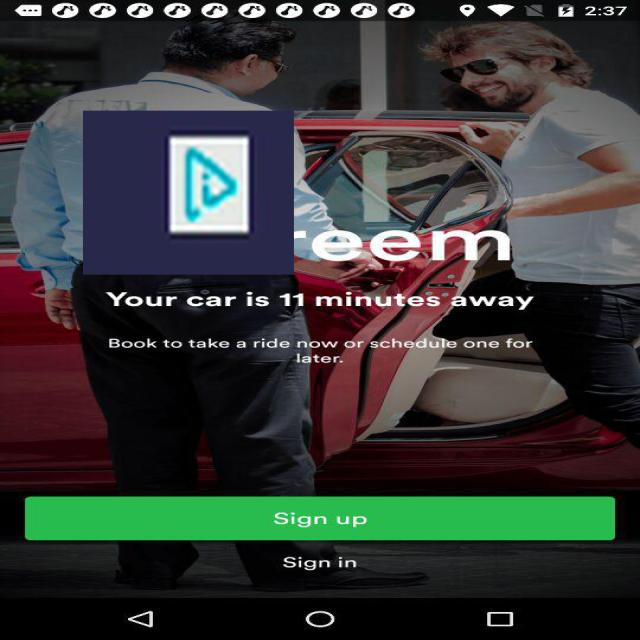sneaking: (83, 110, 294, 274)
